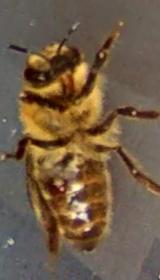varroa_mite: (42, 171, 70, 195)
